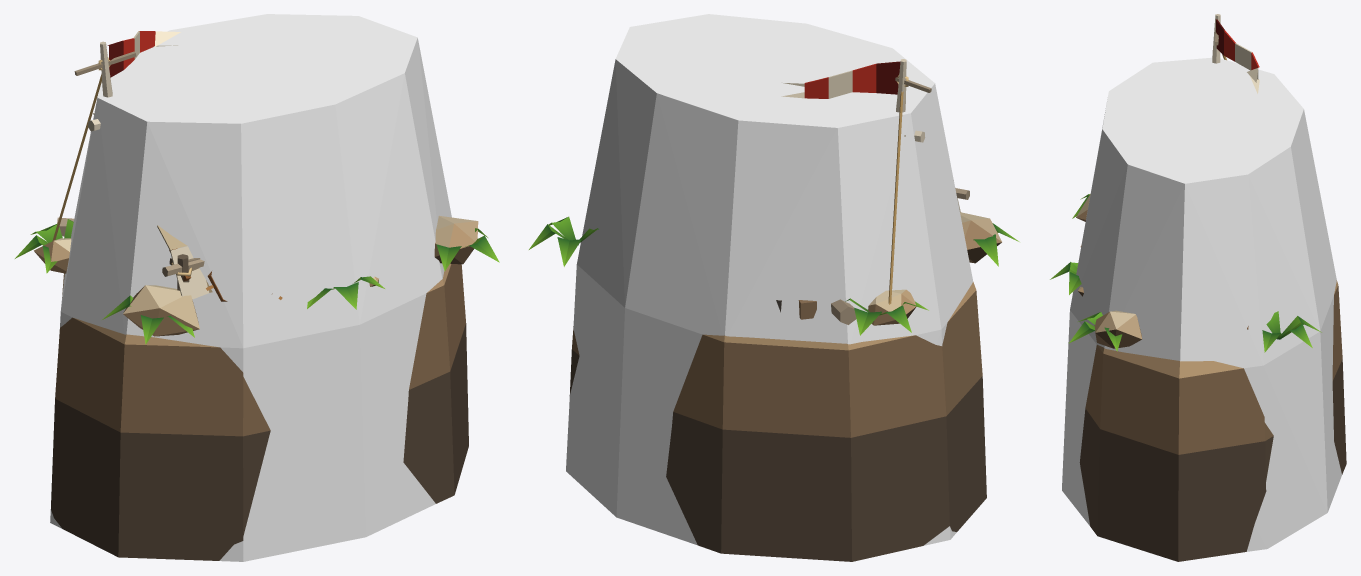
The model's file is coastal_castaway_raft_shelter.glb.
3 views of the same model, side by side, from view 1: azimuth 30°, elevation 25°; view 2: azimuth 150°, elevation 25°; view 3: azimuth 270°, elevation 25° (orthographic). The views are drawn at different scales.
Parts seen in each view (by area): view 1: col_castawaycamp_base, coastal_castaway_raft_shelter; view 2: col_castawaycamp_base, coastal_castaway_raft_shelter; view 3: col_castawaycamp_base, coastal_castaway_raft_shelter.
Part boxes in pixels (box(x1,y1,x2,y2)): col_castawaycamp_base: box(50, 14, 451, 561); coastal_castaway_raft_shelter: box(15, 31, 499, 560); col_castawaycamp_base: box(566, 14, 973, 545); coastal_castaway_raft_shelter: box(529, 59, 1019, 561); col_castawaycamp_base: box(1062, 57, 1341, 551); coastal_castaway_raft_shelter: box(1050, 14, 1346, 561).
Size of the model in its own units: 5.5 by 6.28 by 4.2.
